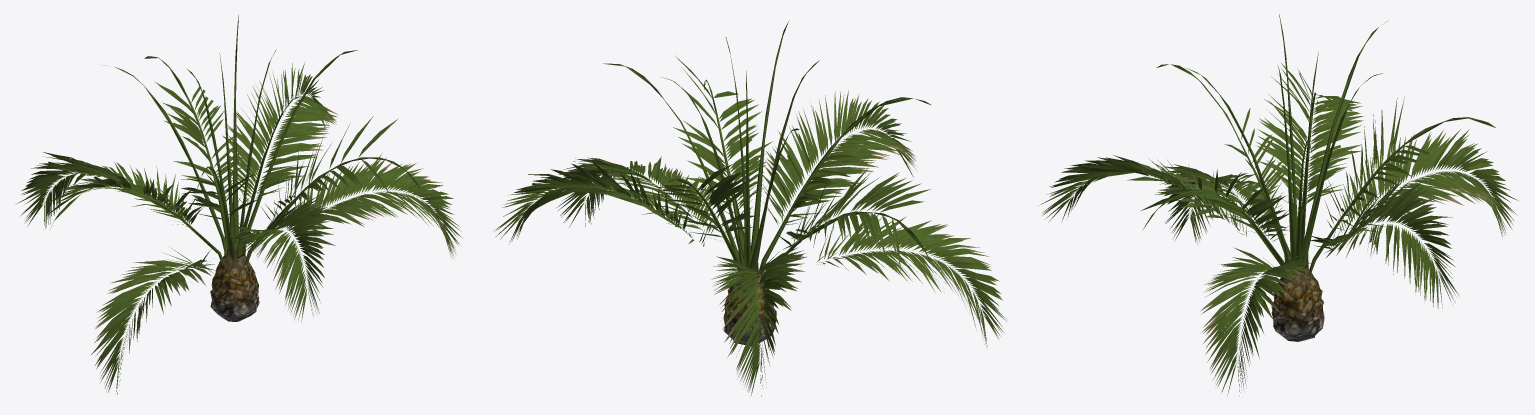
The model's file is tree_palm.gltf.
3 views of the same model, side by side, from view 1: azimuth 30°, elevation 25°; view 2: azimuth 150°, elevation 25°; view 3: azimuth 270°, elevation 25° (orthographic). The views are drawn at different scales.
Visible parts, largest first — view 1: tree_palm; view 2: tree_palm; view 3: tree_palm.
Part boxes in pixels (x1,y1,x2,y2): tree_palm: (17,15,462,394); tree_palm: (493,21,1007,396); tree_palm: (1038,14,1519,396).
Bounding box in the file's own units: 16.38 × 11 × 16.37.
4 materials, 4 textured.
